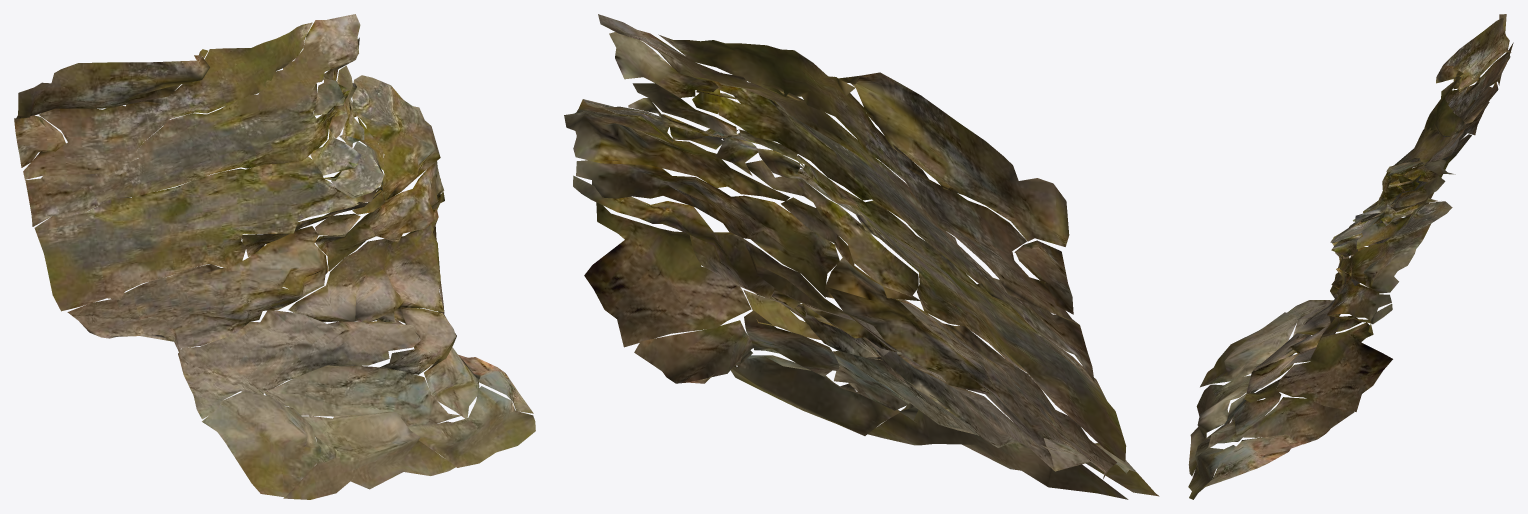
The model's file is rock_face_02_lod1.glb.
3 views of the same model, side by side, from view 1: azimuth 30°, elevation 25°; view 2: azimuth 150°, elevation 25°; view 3: azimuth 270°, elevation 25° (orthographic). The views are drawn at different scales.
Parts seen in each view (by area): view 1: rock_face_02; view 2: rock_face_02; view 3: rock_face_02.
Boxes of the visible parts, x1=… form: rock_face_02: x1=14, y1=14, x2=535, y2=499; rock_face_02: x1=564, y1=14, x2=1159, y2=499; rock_face_02: x1=1188, y1=14, x2=1513, y2=499.
Size of the model in its own units: 2.71 by 2.48 by 2.1.
1 material, 1 textured.
